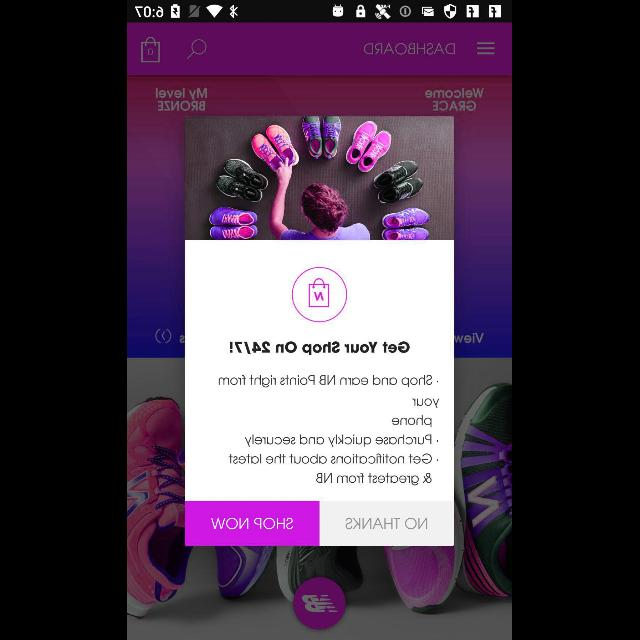icon: (142, 37, 160, 63), (188, 39, 208, 59), (478, 42, 497, 56)
image: (186, 116, 454, 240), (292, 267, 348, 323), (294, 577, 346, 629)
panel: (185, 117, 455, 546)
text: (219, 374, 441, 486), (230, 342, 410, 356), (426, 88, 484, 112), (156, 88, 208, 112), (364, 43, 456, 55)
textbutton: (186, 502, 320, 546), (321, 502, 455, 546)
uppertaskbar: (128, 1, 512, 23)
